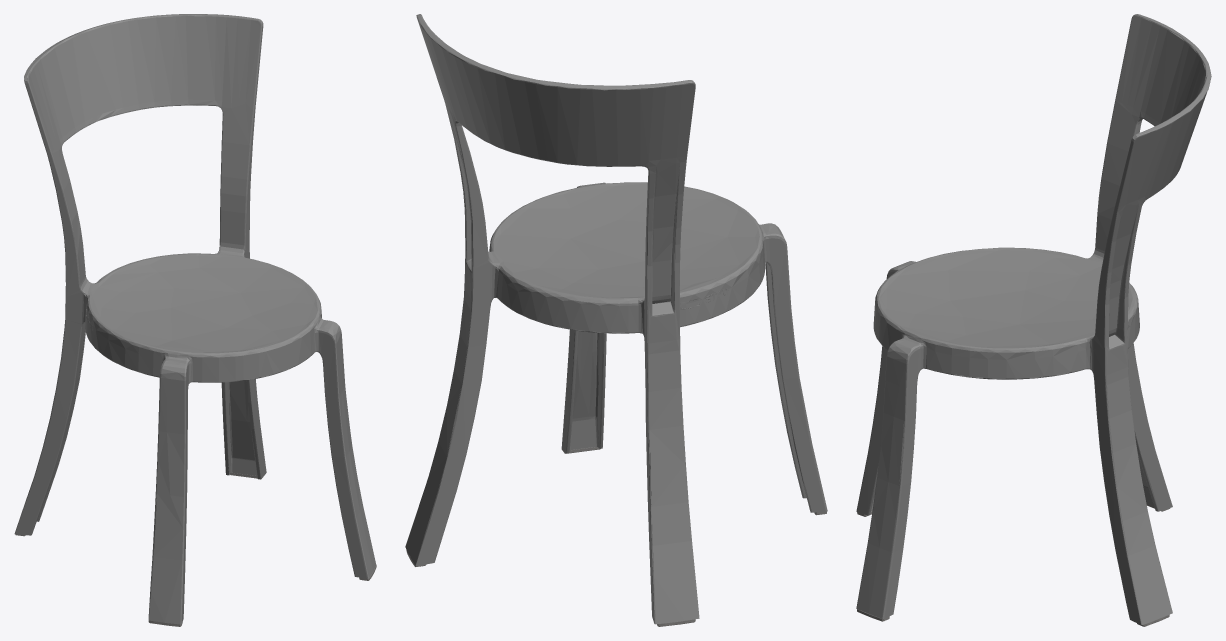
3 renders of one model, left to right at view 1: azimuth 30°, elevation 25°; view 2: azimuth 150°, elevation 25°; view 3: azimuth 270°, elevation 25°, orthographic. The views are drawn at different scales.
Visible parts, largest first — view 1: 169b8c1d-ec32-4421-a9db-8bf82543f6d0_1; view 2: 169b8c1d-ec32-4421-a9db-8bf82543f6d0_1; view 3: 169b8c1d-ec32-4421-a9db-8bf82543f6d0_1.
Boxes of the visible parts, bbox=[...] form: 169b8c1d-ec32-4421-a9db-8bf82543f6d0_1: bbox=[14, 14, 376, 624]; 169b8c1d-ec32-4421-a9db-8bf82543f6d0_1: bbox=[405, 14, 827, 624]; 169b8c1d-ec32-4421-a9db-8bf82543f6d0_1: bbox=[856, 14, 1211, 625].
Bounding box in the file's own units: 0.47 × 0.82 × 0.54.
2 materials, 1 textured.
